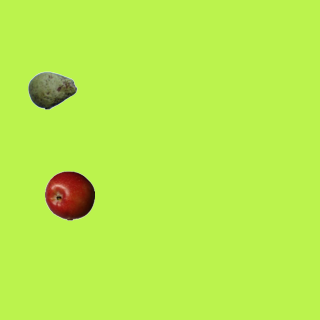Apple Braeburn: (44, 170, 94, 220)
Pear Stone: (27, 65, 77, 115)
